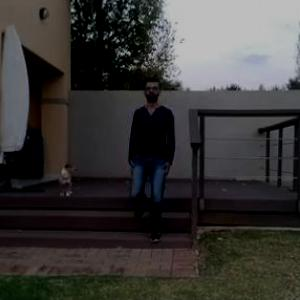follow: (134, 76, 175, 241)
